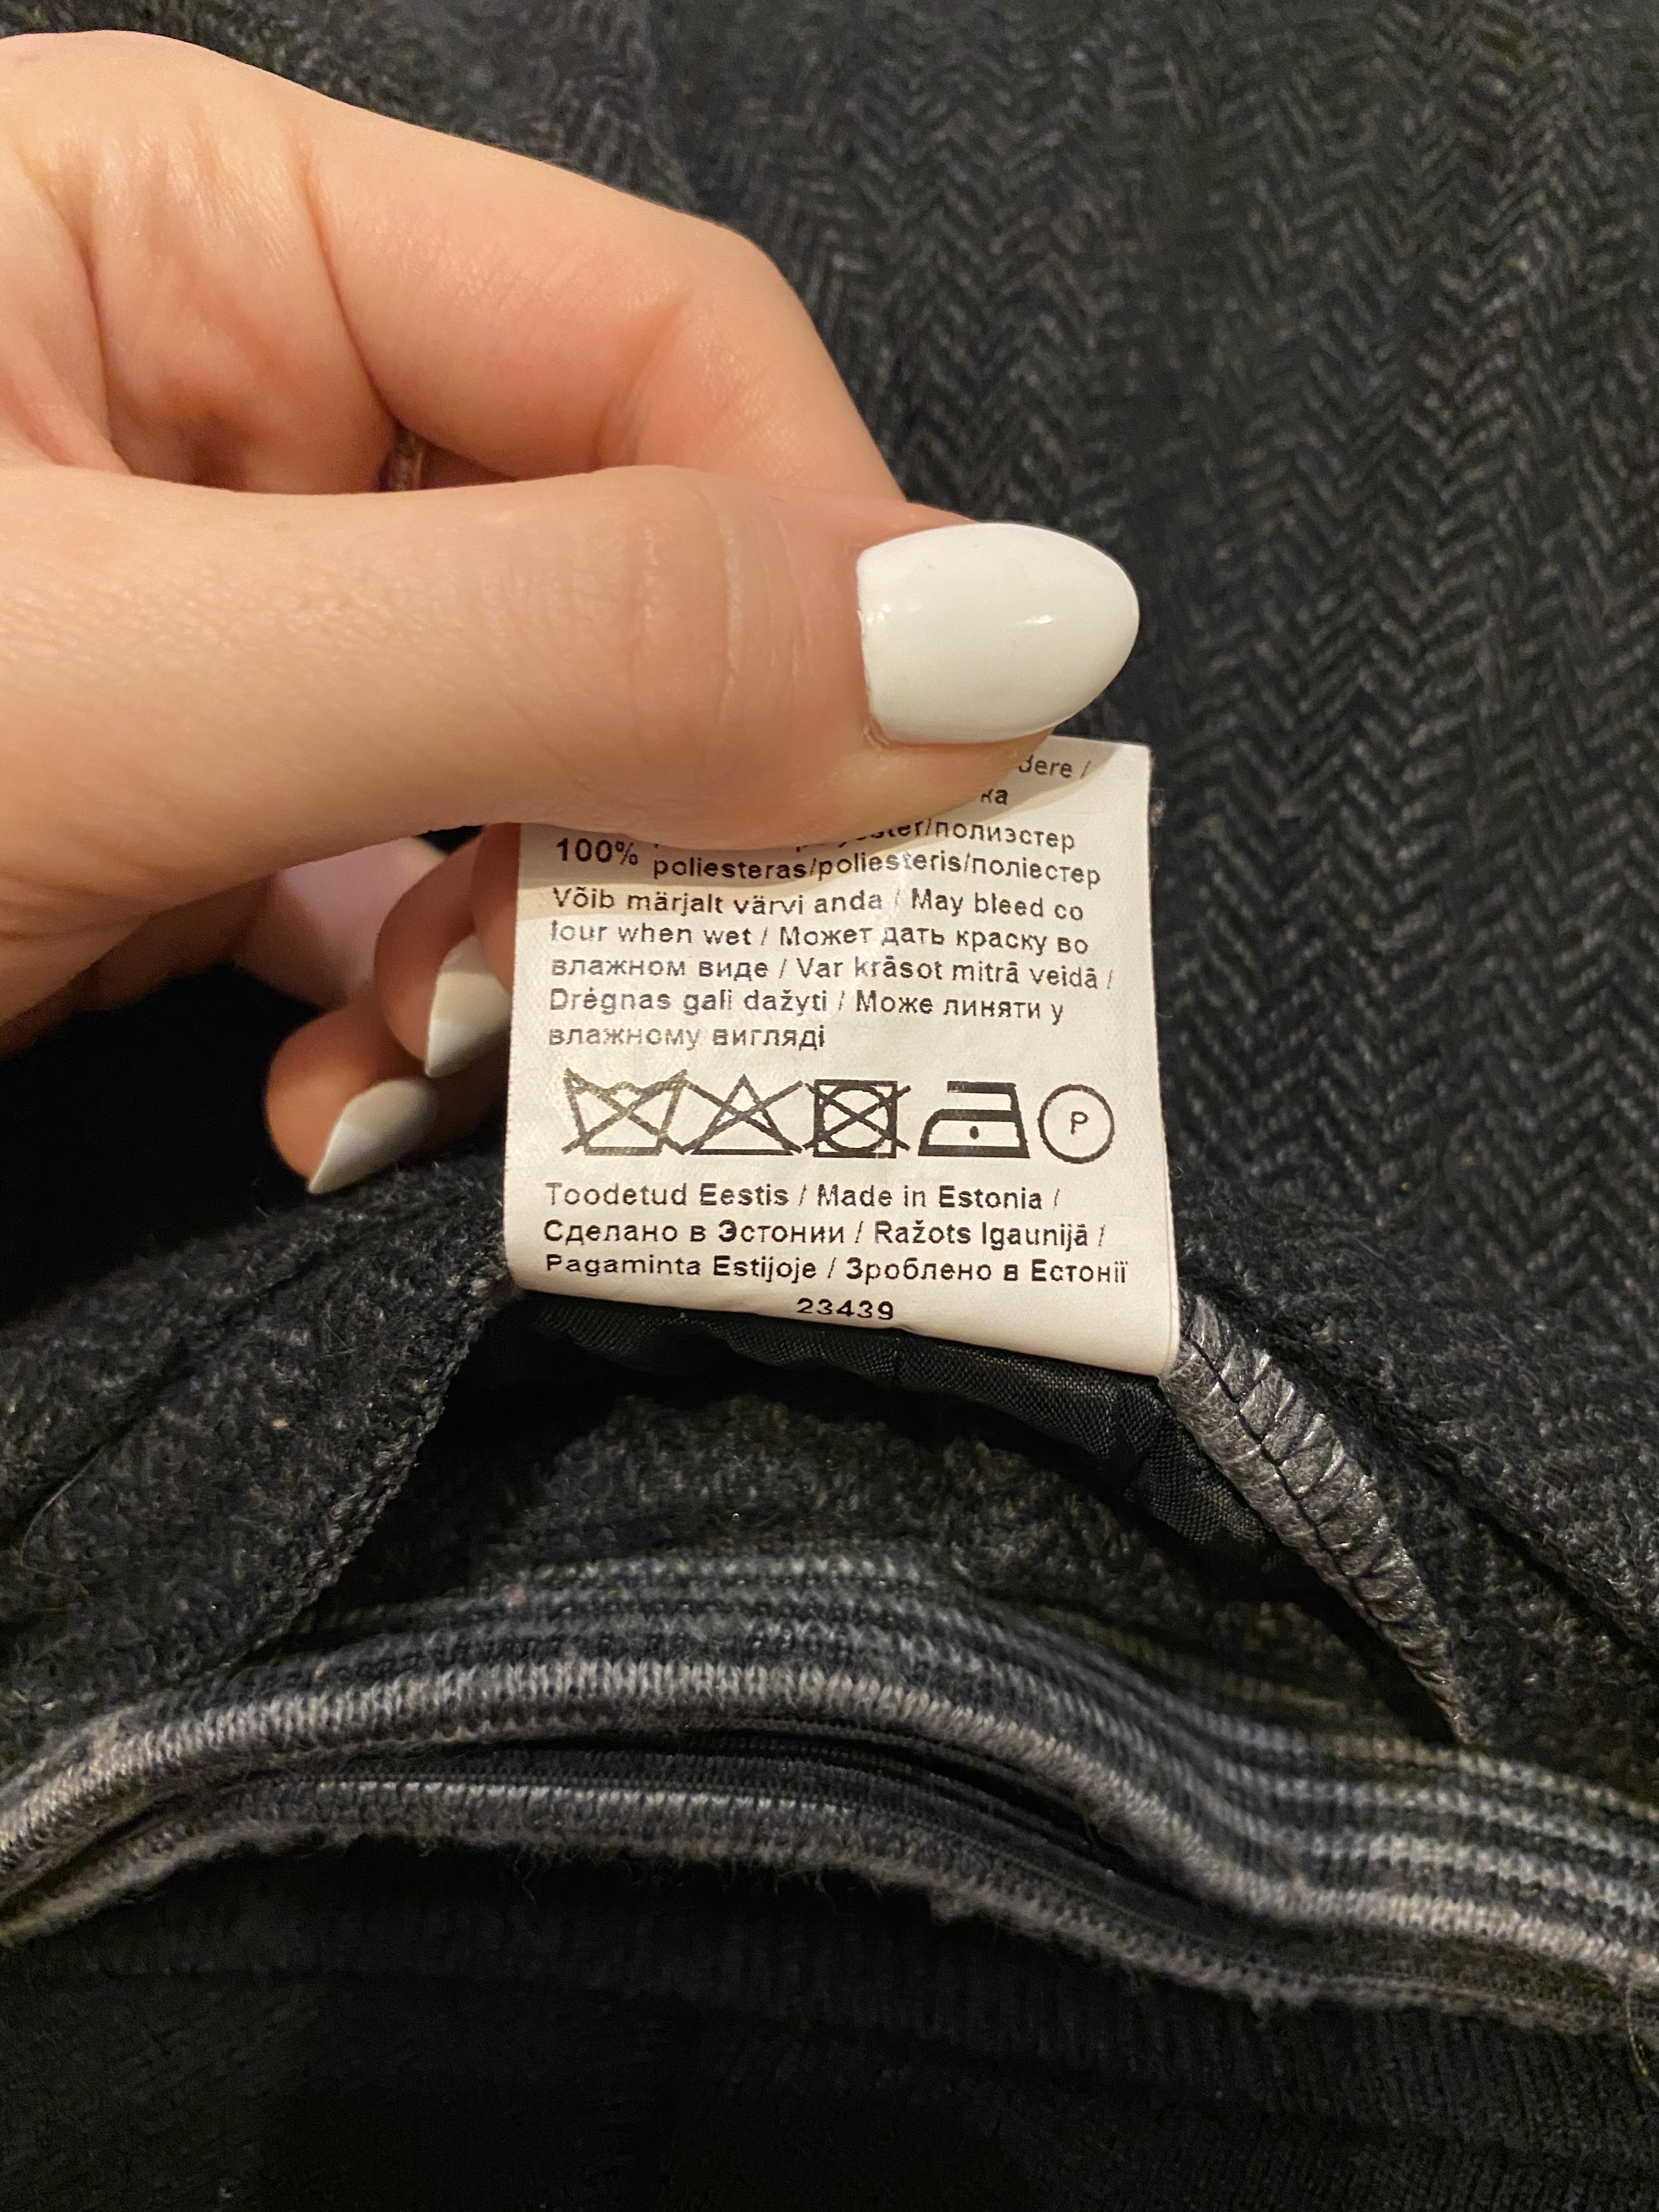do_not_bleach: (687, 1069, 805, 1163)
do_not_tumble_drying: (802, 1069, 917, 1162)
do_not_wash: (556, 1064, 692, 1163)
dry_clean_tetrachloroethylene_pce_only: (1037, 1078, 1117, 1167)
ironing_at_low_temp: (915, 1078, 1033, 1165)
